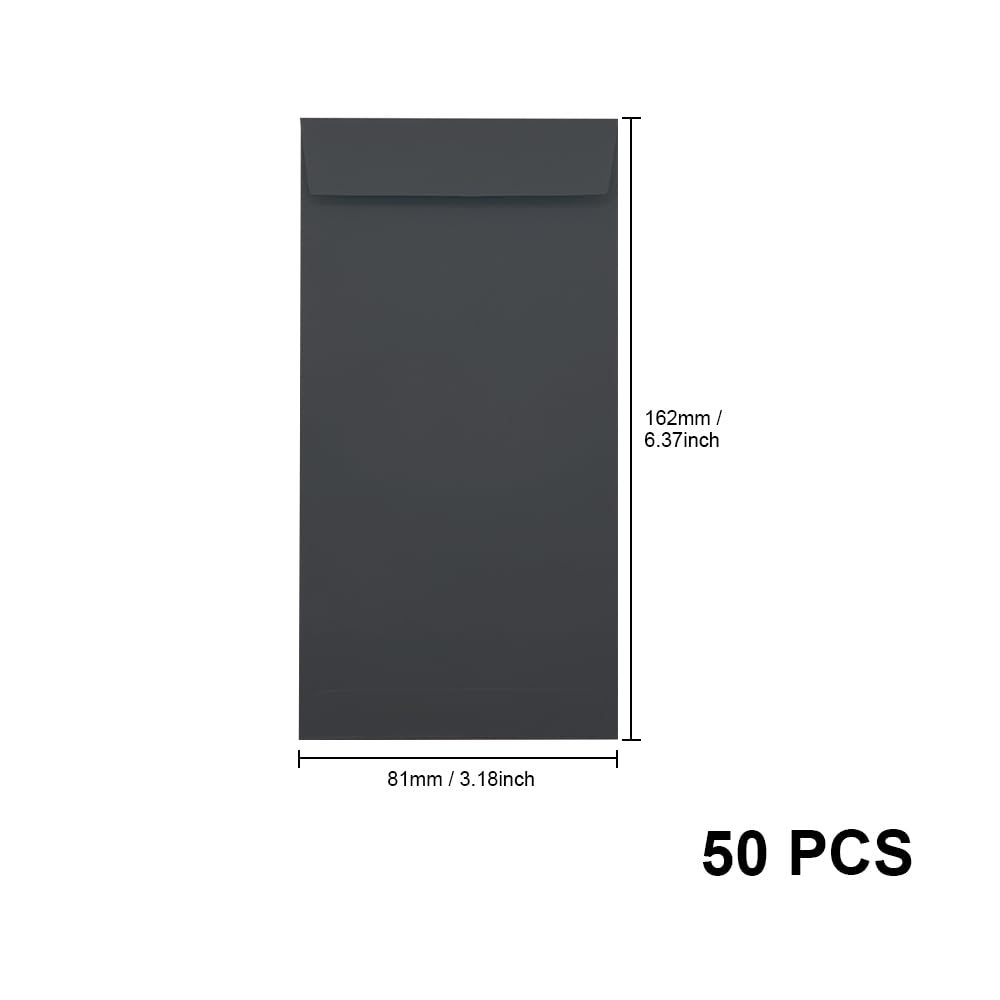/: (717, 410, 722, 425)
162mm: (646, 410, 710, 425)
50: (703, 830, 766, 876)
6.37inch: (645, 432, 719, 447)
81mm: (388, 771, 534, 786)
PCS: (792, 829, 911, 876)
